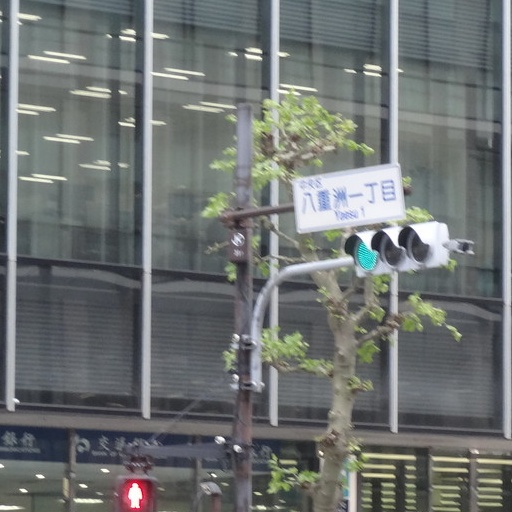Pedestrian_Signal_Red: (112, 460, 160, 505)
Traffic_Signal_Red: (343, 222, 452, 272)
